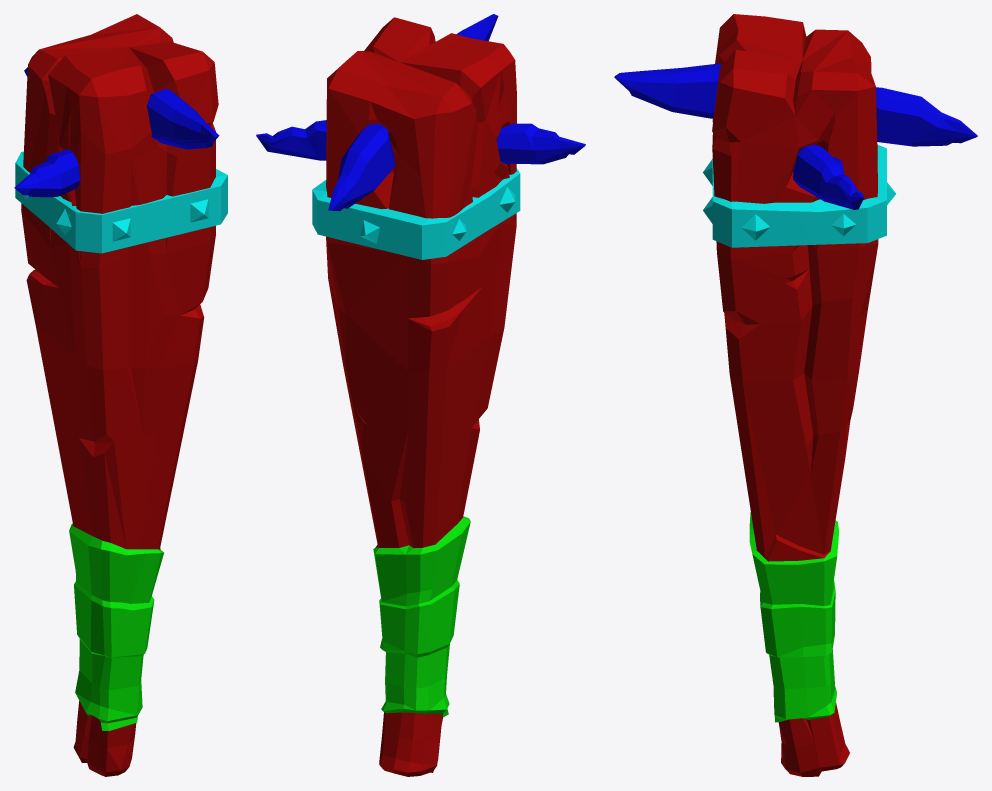
The model's file is Mace_Common_CrudeClub.fbx.
The picture shows the model from 3 angles, left to right: view 1: azimuth 30°, elevation 25°; view 2: azimuth 150°, elevation 25°; view 3: azimuth 270°, elevation 25°; orthographic projection. The views are drawn at different scales.
Parts seen in each view (by area): view 1: SM_Wep_Troll_01; view 2: SM_Wep_Troll_01; view 3: SM_Wep_Troll_01.
Boxes of the visible parts, left/top/right/bottom form: SM_Wep_Troll_01: left=14, top=14, right=227, bottom=776; SM_Wep_Troll_01: left=256, top=14, right=585, bottom=776; SM_Wep_Troll_01: left=614, top=14, right=977, bottom=776.
Bounding box in the file's own units: 57.2 × 148 × 66.86.
